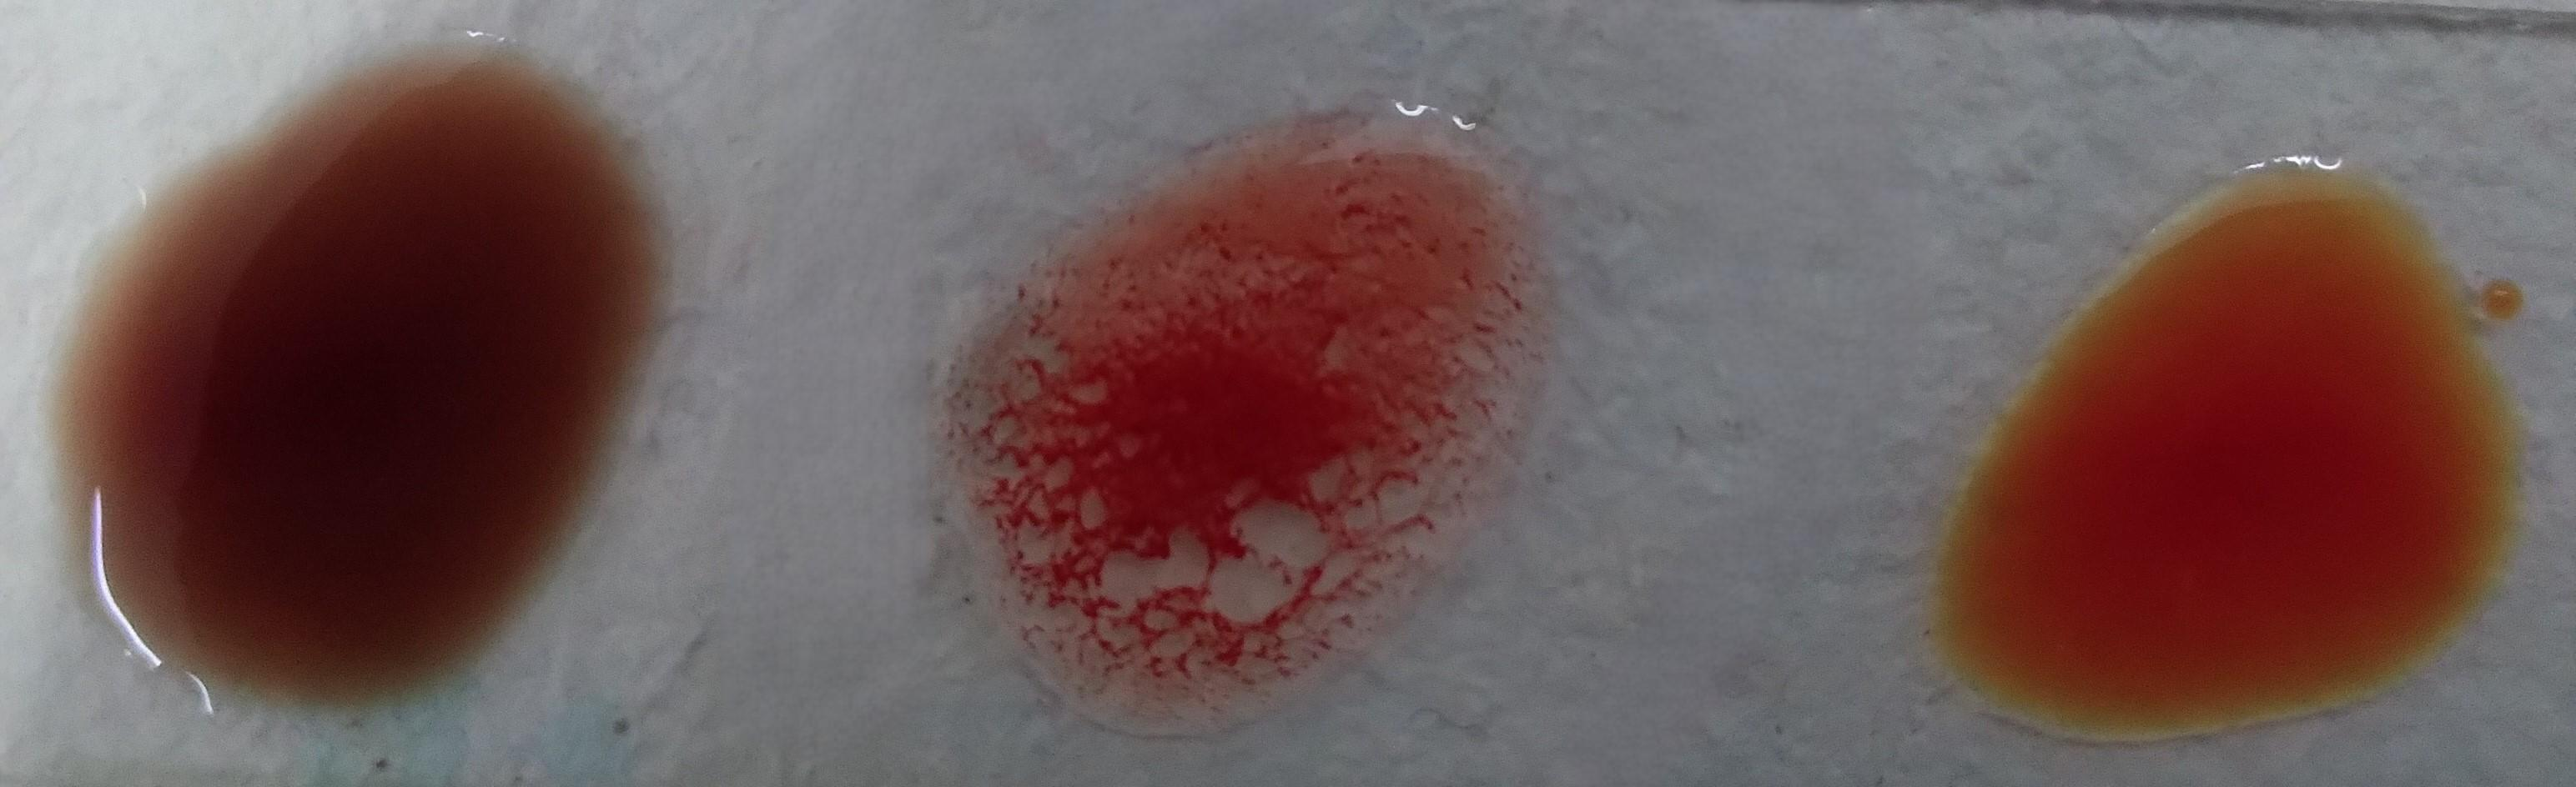D: (976, 125, 1561, 759)
